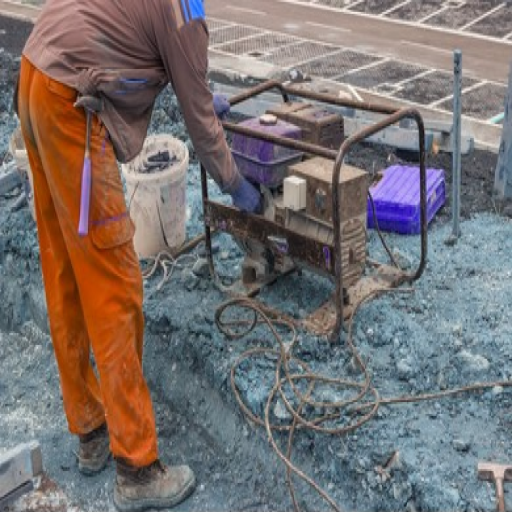portable_generator: (200, 79, 429, 343)
